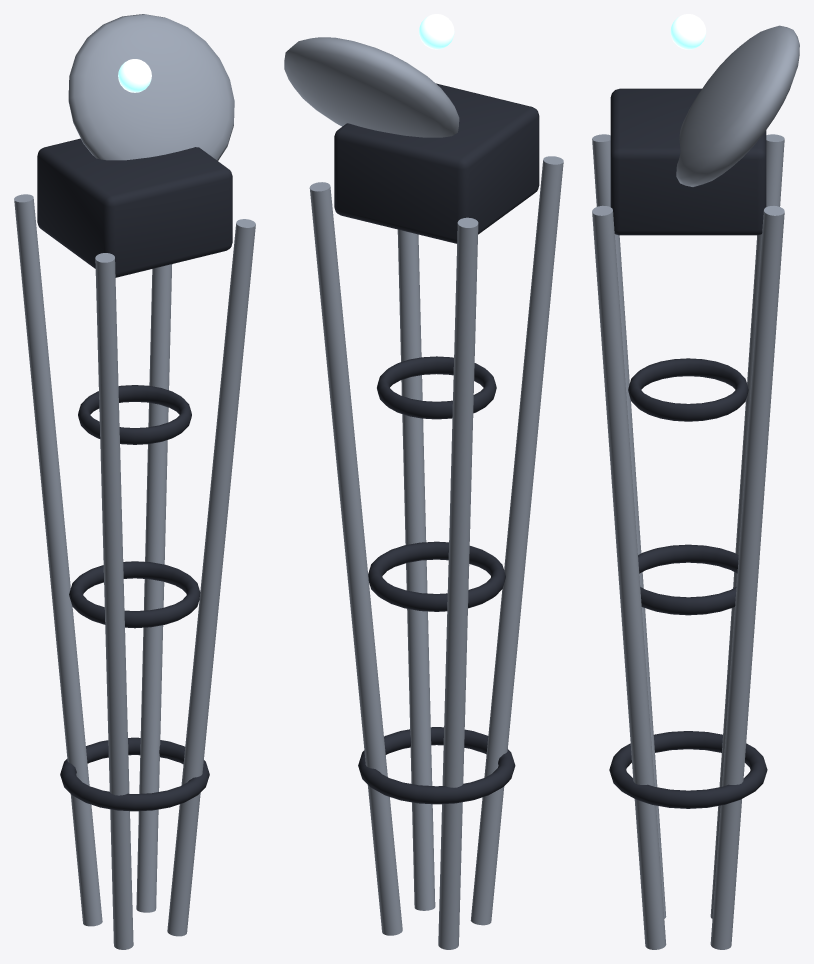
The model's file is town_tower.glb.
The picture shows the model from 3 angles, left to right: view 1: azimuth 30°, elevation 25°; view 2: azimuth 150°, elevation 25°; view 3: azimuth 270°, elevation 25°; orthographic projection. The views are drawn at different scales.
Parts seen in each view (by area): view 1: Cab, Dish, Leg1, Leg3, Leg2, Leg0, Ring3, Ring6.5, Ring10, Light; view 2: Cab, Leg2, Leg0, Leg1, Leg3, Dish, Ring3, Ring6.5, Ring10, Light; view 3: Cab, Leg3, Leg0, Dish, Ring3, Ring10, Leg2, Leg1, Ring6.5, Light.
Part boxes in pixels (left/top/right/bottom): Cab: left=37, top=138, right=232, bottom=277; Dish: left=68, top=14, right=234, bottom=160; Leg1: left=14, top=194, right=102, bottom=926; Leg3: left=167, top=219, right=255, bottom=936; Leg2: left=95, top=253, right=133, bottom=949; Leg0: left=136, top=264, right=172, bottom=912; Ring3: left=60, top=737, right=209, bottom=811; Ring6.5: left=69, top=561, right=200, bottom=628; Ring10: left=78, top=385, right=191, bottom=444; Light: left=118, top=59, right=151, bottom=92; Cab: left=334, top=83, right=539, bottom=243; Leg2: left=470, top=156, right=563, bottom=925; Leg0: left=309, top=182, right=402, bottom=935; Leg1: left=438, top=217, right=478, bottom=949; Leg3: left=397, top=229, right=435, bottom=910; Dish: left=284, top=37, right=459, bottom=137; Ring3: left=358, top=727, right=515, bottom=804; Ring6.5: left=368, top=541, right=505, bottom=611; Ring10: left=377, top=356, right=496, bottom=419; Light: left=419, top=14, right=454, bottom=49; Cab: left=610, top=88, right=766, bottom=235; Leg3: left=592, top=205, right=666, bottom=949; Leg0: left=710, top=206, right=784, bottom=949; Dish: left=676, top=25, right=799, bottom=186; Ring3: left=609, top=731, right=767, bottom=808; Ring10: left=628, top=358, right=748, bottom=421; Leg2: left=592, top=134, right=666, bottom=918; Leg1: left=710, top=134, right=784, bottom=918; Ring6.5: left=638, top=544, right=738, bottom=615; Light: left=670, top=14, right=706, bottom=49.
Bounding box in the file's own units: 4.01 × 16.89 × 3.47.
